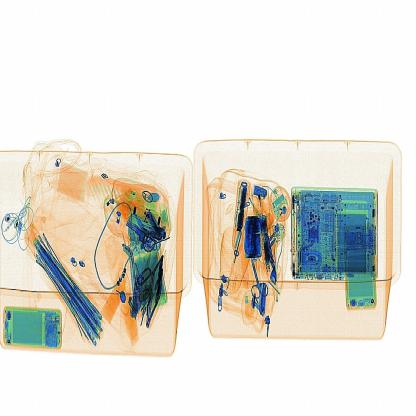scissors: (244, 215, 271, 265)
